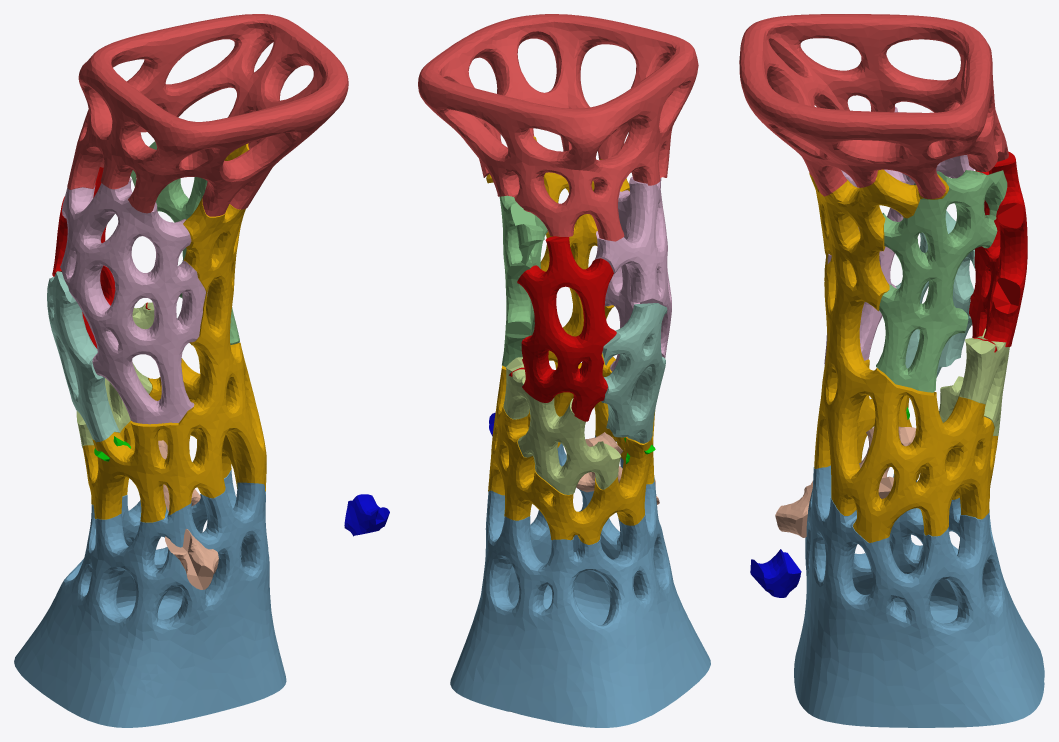
File: fractured_69_12pcs.glb
3 views of the same model, side by side, from view 1: azimuth 30°, elevation 25°; view 2: azimuth 150°, elevation 25°; view 3: azimuth 270°, elevation 25° (orthographic). The views are drawn at different scales.
Visible parts, largest first — view 1: piece_2.obj, piece_1.obj, piece_0.obj, piece_6.obj, piece_4.obj, piece_7.obj, piece_3.obj, piece_5.obj, piece_9.obj, piece_10.obj; view 2: piece_2.obj, piece_1.obj, piece_0.obj, piece_9.obj, piece_6.obj, piece_5.obj, piece_4.obj, piece_3.obj, piece_7.obj; view 3: piece_2.obj, piece_1.obj, piece_0.obj, piece_3.obj, piece_9.obj, piece_5.obj, piece_6.obj, piece_4.obj, piece_7.obj, piece_10.obj.
Boxes of the visible parts, <box> form: piece_2.obj: <box>14,470,286,727</box>; piece_1.obj: <box>67,14,348,216</box>; piece_0.obj: <box>83,143,266,522</box>; piece_6.obj: <box>60,177,207,424</box>; piece_4.obj: <box>47,271,119,442</box>; piece_7.obj: <box>158,440,218,589</box>; piece_3.obj: <box>130,141,239,344</box>; piece_5.obj: <box>76,302,154,448</box>; piece_9.obj: <box>52,167,150,348</box>; piece_10.obj: <box>344,494,389,536</box>; piece_2.obj: <box>450,435,710,727</box>; piece_1.obj: <box>418,14,698,241</box>; piece_0.obj: <box>486,136,655,544</box>; piece_9.obj: <box>509,236,616,421</box>; piece_6.obj: <box>594,177,671,371</box>; piece_5.obj: <box>503,357,621,494</box>; piece_4.obj: <box>601,303,667,443</box>; piece_3.obj: <box>499,195,547,366</box>; piece_7.obj: <box>576,432,659,504</box>; piece_2.obj: <box>794,463,1044,727</box>; piece_1.obj: <box>739,14,1008,198</box>; piece_0.obj: <box>809,169,998,542</box>; piece_3.obj: <box>876,170,1007,392</box>; piece_9.obj: <box>969,151,1027,352</box>; piece_5.obj: <box>939,328,1009,435</box>; piece_6.obj: <box>824,107,974,364</box>; piece_4.obj: <box>895,210,975,377</box>; piece_7.obj: <box>775,426,915,537</box>; piece_10.obj: <box>750,549,801,597</box>.
Size of the model in its own units: 0.4636 by 1 by 0.4358.
